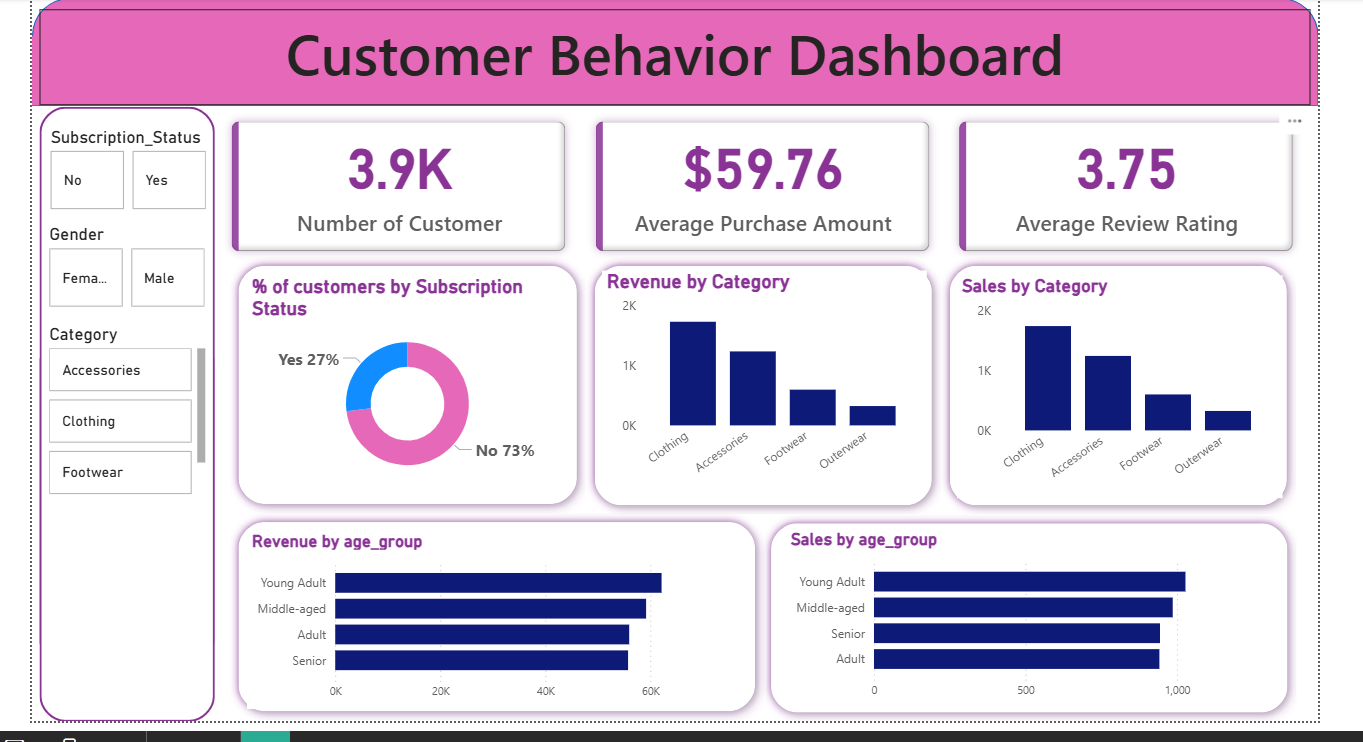

The page's visual inventory and layout, read from the dashboard file:
{"tool":"powerbi","page":{"name":"Page 1","canvas":[1280,720],"ordinal":0},"visuals":[{"type":"cardVisual","fields":{"Data":["public customer3.Number of Customer","public customer3.Average Purchase Amount","public customer3.Average Review Rating"]},"box":[182.5,107.4,1090,161.8],"z":0},{"type":"shape","box":[0,0,1280.3,107.5],"z":1000},{"type":"textbox","box":[7.7,10.7,1265,96.7],"z":2000},{"type":"shape","box":[196.8,257.6,354.7,255],"z":3000},{"type":"donutChart","title":"% of customers by Subscription Status","fields":{"Category":["public customer3.subscription_status"],"Y":["CountNonNull(public customer3.customer_id)"]},"box":[213.6,275.7,319.7,212.3],"z":4000},{"type":"shape","box":[551.5,257.6,353.4,256.3],"z":5000},{"type":"shape","box":[904.9,257.6,353.4,256.3],"z":6000},{"type":"clusteredColumnChart","title":"Revenue by Category","fields":{"Y":["CountNonNull(public customer3.purchase_amount)"],"Category":["public customer3.category"]},"box":[567.2,271.6,323.2,221.3],"z":7000},{"type":"clusteredColumnChart","title":"Sales by Category","fields":{"Category":["public customer3.category"],"Y":["CountNonNull(public customer3.customer_id)"]},"box":[920.4,275.7,323.6,221.4],"z":8000},{"type":"shape","box":[7.8,108.1,174.5,612.1],"z":9000},{"type":"advancedSlicerVisual","fields":{"Values":["public customer3.subscription_status"]},"box":[14.2,128.2,164.4,88],"z":10000},{"type":"advancedSlicerVisual","fields":{"Values":["public customer3.gender"]},"box":[12.9,225.2,164.4,88],"z":11000},{"type":"advancedSlicerVisual","fields":{"Values":["public customer3.category"]},"box":[13,324.3,165.4,174.5],"z":12000},{"type":"shape","box":[196.2,513.1,532,206.2],"z":12002},{"type":"clusteredBarChart","title":"Revenue by age_group","fields":{"Category":["public customer3.age_group"],"Y":["Sum(public customer3.purchase_amount)"]},"box":[213.8,529.5,467.8,177.3],"z":12003},{"type":"shape","box":[726.9,514.4,532,206.2],"z":12004},{"type":"clusteredBarChart","title":"Sales by  age_group","fields":{"Category":["public customer3.age_group"],"Y":["CountNonNull(public customer3.customer_id)"]},"box":[749.5,528.2,467.8,177.3],"z":12005}]}

Visuals, with their boxes in screenshot pixels (x1, y1, x2, y2):
cardVisual - public customer3.Number of Customer x public customer3.Average Purchase Amount: 214/102/1321/266
shape: 28/0/1329/102
textbox: 36/4/1322/102
shape: 228/255/589/514
"% of customers by Subscription Status" donutChart: 245/273/570/489
shape: 589/255/948/515
shape: 948/255/1307/515
"Revenue by Category" clusteredColumnChart: 605/269/933/494
"Sales by Category" clusteredColumnChart: 964/273/1292/498
shape: 36/103/214/725
advancedSlicerVisual - public customer3.subscription_status: 43/123/210/213
advancedSlicerVisual - public customer3.gender: 42/222/209/311
advancedSlicerVisual - public customer3.category: 42/322/210/500
shape: 228/514/768/724
"Revenue by age_group" clusteredBarChart: 246/531/721/711
shape: 767/516/1308/725
"Sales by  age_group" clusteredBarChart: 790/530/1265/710
